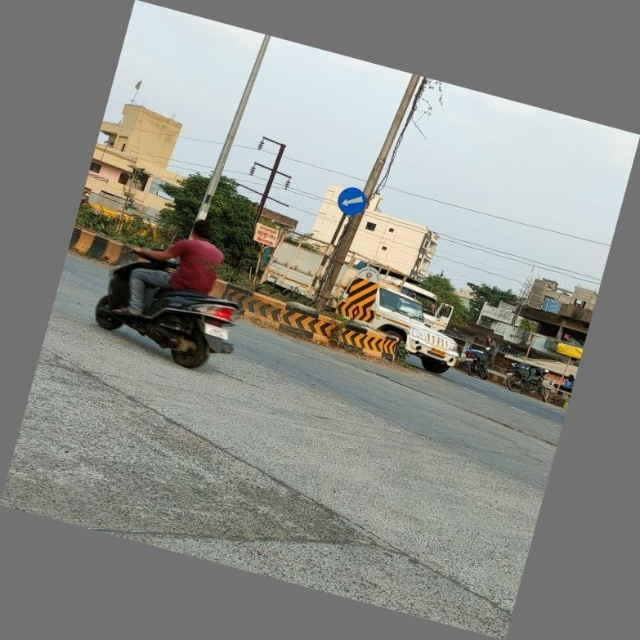R.301e: (333, 184, 372, 221)
